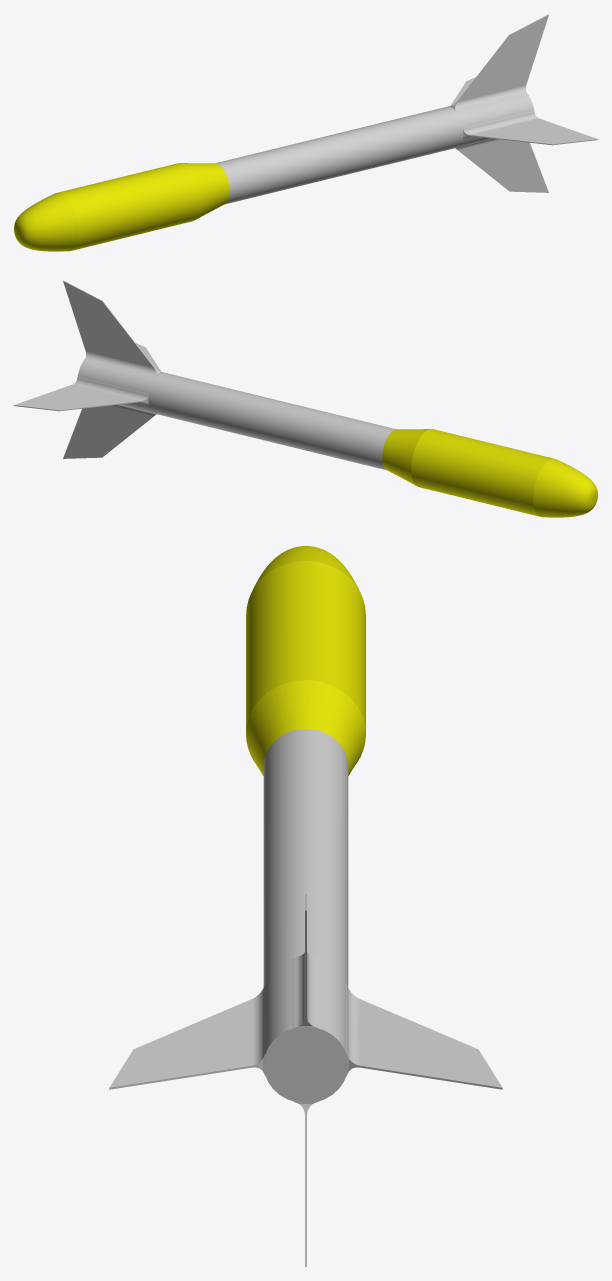
The picture shows the model from 3 angles, top to bottom: view 1: azimuth 30°, elevation 25°; view 2: azimuth 150°, elevation 25°; view 3: azimuth 270°, elevation 25°; orthographic projection. The views are drawn at different scales.
Parts seen in each view (by area): view 1: body-1, Fin-4, Fin-2, Fin-3; view 2: body-1, Fin-4, Fin-2, Fin-1; view 3: body-1, Fin-1, Fin-3, Fin-4.
Part boxes in pixels (bbox=[...]): body-1: bbox=[14, 94, 534, 251]; Fin-4: bbox=[450, 14, 548, 111]; Fin-2: bbox=[455, 138, 548, 192]; Fin-3: bbox=[463, 110, 597, 145]; body-1: bbox=[77, 360, 597, 517]; Fin-4: bbox=[63, 280, 161, 377]; Fin-2: bbox=[63, 404, 156, 458]; Fin-1: bbox=[14, 376, 148, 411]; body-1: bbox=[246, 546, 365, 1103]; Fin-1: bbox=[346, 983, 502, 1089]; Fin-3: bbox=[109, 983, 265, 1089]; Fin-4: bbox=[292, 894, 319, 1028].
Size of the model in its own units: 1.74 by 0.558 by 0.558.
